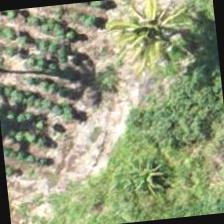Kelapa_Sawit: (104, 0, 204, 90)
